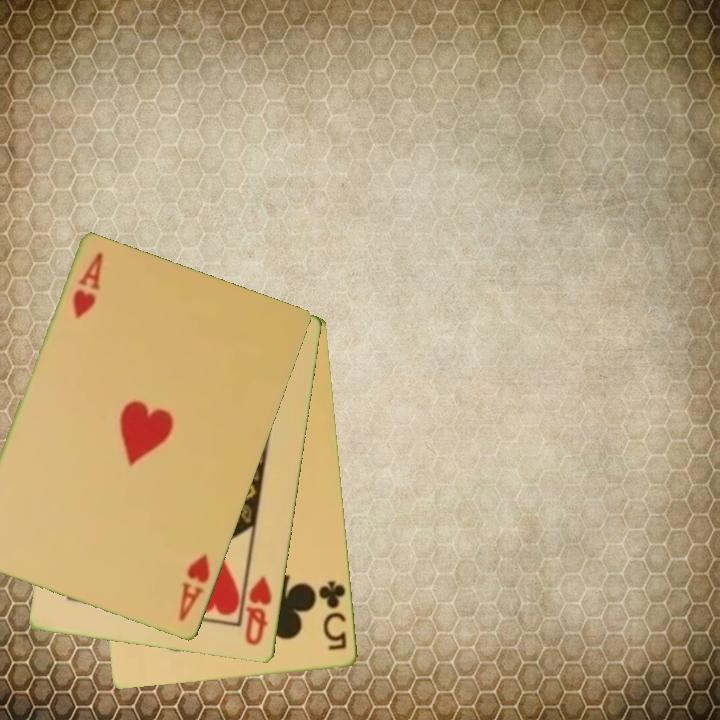5c: (315, 578, 350, 653)
Ah: (175, 550, 214, 625), (69, 249, 106, 323)
Qh: (242, 573, 275, 649)
